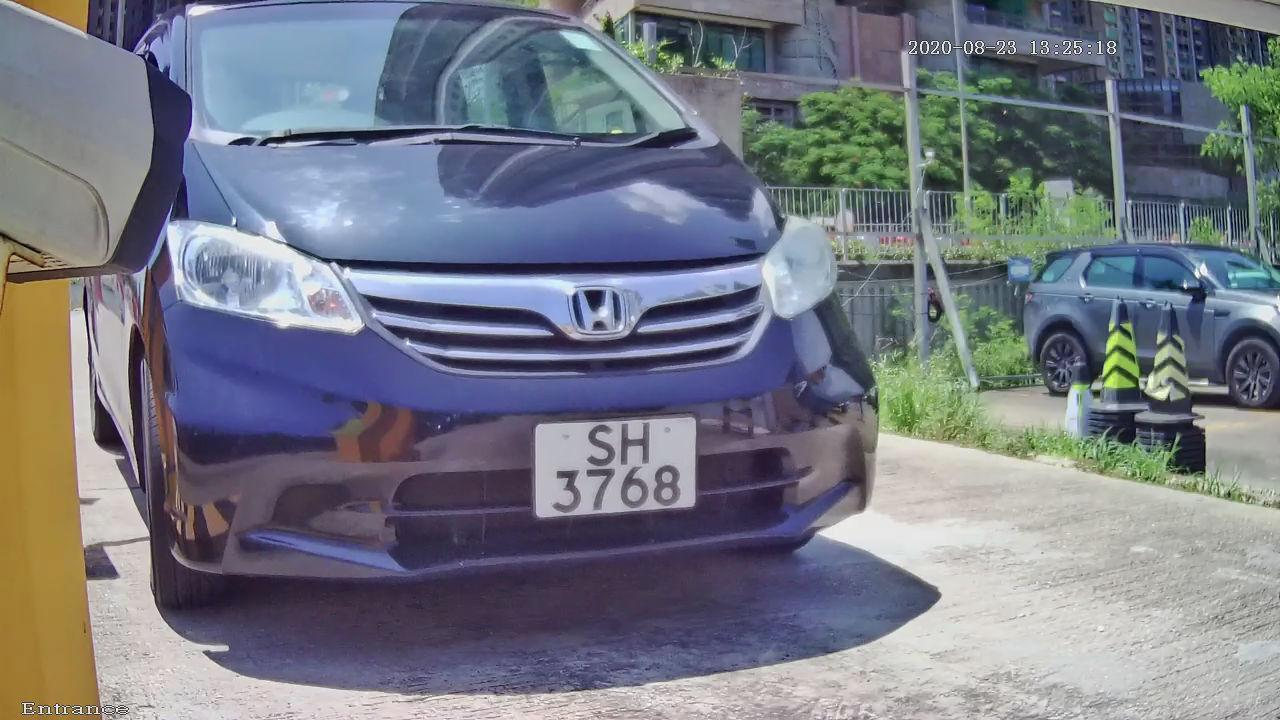Car: (23, 4, 898, 672)
License Plate: (521, 402, 709, 531)
